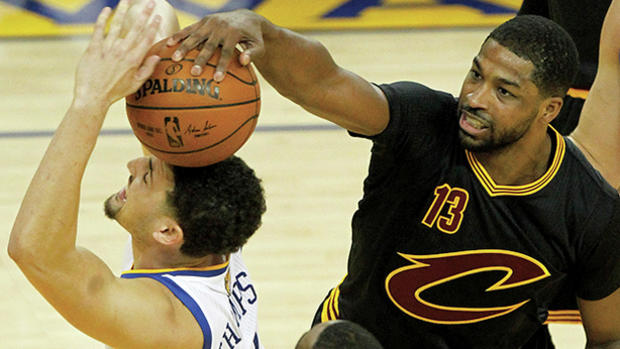Basketball: (124, 35, 262, 168)
